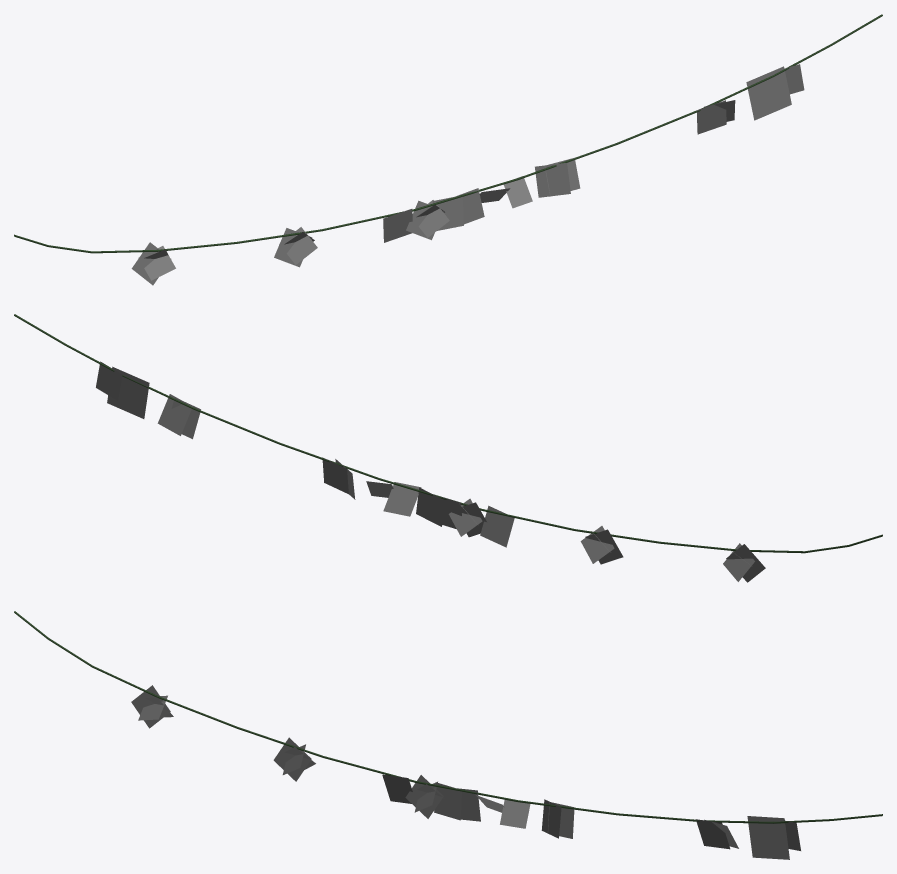
File: SM_lians_04.fbx
3 renders of one model, top to bottom at view 1: azimuth 30°, elevation 25°; view 2: azimuth 150°, elevation 25°; view 3: azimuth 330°, elevation 25°, orthographic.
Visible parts, largest first — view 1: Line030; view 2: Line030; view 3: Line030.
Part boxes in pixels (box(x1,y1,x2,y2)): Line030: box(14, 14, 882, 285); Line030: box(14, 314, 882, 582); Line030: box(14, 611, 882, 859).
Bounding box in the file's own units: 625 × 21.34 × 78.58.
